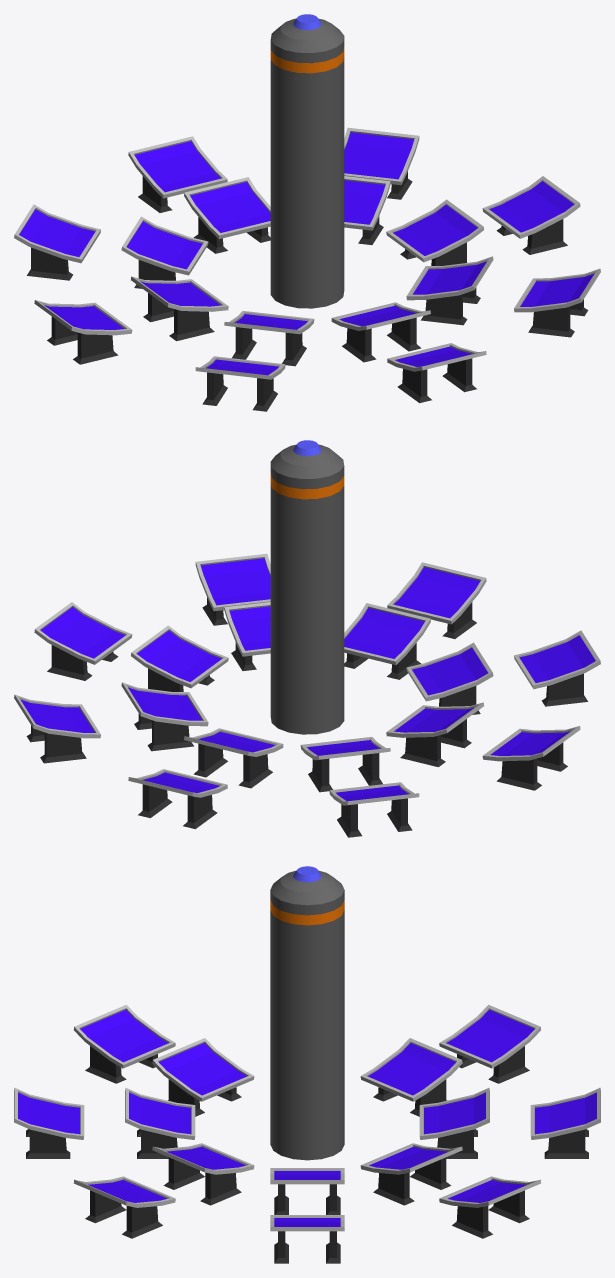
Rendered from Power_C.fbx.
The picture shows the model from 3 angles, top to bottom: view 1: azimuth 30°, elevation 25°; view 2: azimuth 150°, elevation 25°; view 3: azimuth 270°, elevation 25°; orthographic projection.
Parts seen in each view (by area): view 1: FarmTower, Panel.006, Panel.007, Panel.010, Panel.003, Panel.002, Panel.014, Panel.015, Panel.013, Panel.012, Panel.011, Panel.000 (+19 smaller); view 2: FarmTower, Panel.005, Panel.004, Panel.013, Panel.003, Panel.002, Panel.008, Panel.009, Panel.010, Panel.011, Panel.012, Panel.000 (+19 smaller); view 3: FarmTower, Panel.008, Panel.009, Panel.014, Panel.015, Panel.005, Panel.006, Panel.004, Panel.007, Panel.011, Panel.012, Panel.010 (+17 smaller).
Part boxes in pixels (x1,y1,x2,y2): FarmTower: (270, 14, 344, 308); Panel.006: (128, 136, 227, 198); Panel.007: (184, 177, 270, 238); Panel.010: (344, 127, 419, 185); Panel.003: (386, 199, 483, 262); Panel.002: (482, 176, 580, 238); Panel.014: (14, 204, 100, 263); Panel.015: (121, 216, 208, 275); Panel.013: (514, 268, 600, 312); Panel.012: (406, 256, 493, 300); Panel.011: (344, 176, 390, 230); Panel.000: (131, 276, 228, 311); FarmTower: (270, 440, 344, 734); Panel.005: (387, 562, 486, 624); Panel.004: (344, 603, 430, 664); Panel.013: (195, 553, 270, 611); Panel.003: (131, 625, 228, 688); Panel.002: (34, 602, 132, 664); Panel.008: (406, 642, 493, 701); Panel.009: (514, 630, 600, 689); Panel.010: (14, 694, 100, 738); Panel.011: (121, 682, 208, 726); Panel.012: (224, 602, 270, 656); Panel.000: (386, 702, 483, 737); FarmTower: (270, 866, 344, 1160); Panel.008: (152, 1038, 254, 1101); Panel.009: (74, 1004, 175, 1068); Panel.014: (439, 1004, 540, 1068); Panel.015: (360, 1038, 462, 1101); Panel.005: (14, 1088, 84, 1139); Panel.006: (530, 1088, 600, 1139); Panel.004: (125, 1088, 195, 1139); Panel.007: (419, 1088, 489, 1139); Panel.011: (360, 1143, 462, 1174); Panel.012: (152, 1143, 254, 1174); Panel.010: (439, 1176, 541, 1207).
Bounding box in the file's own units: 3.96 × 2.04 × 3.96.
